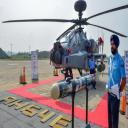helicopter: (2, 3, 128, 80)
